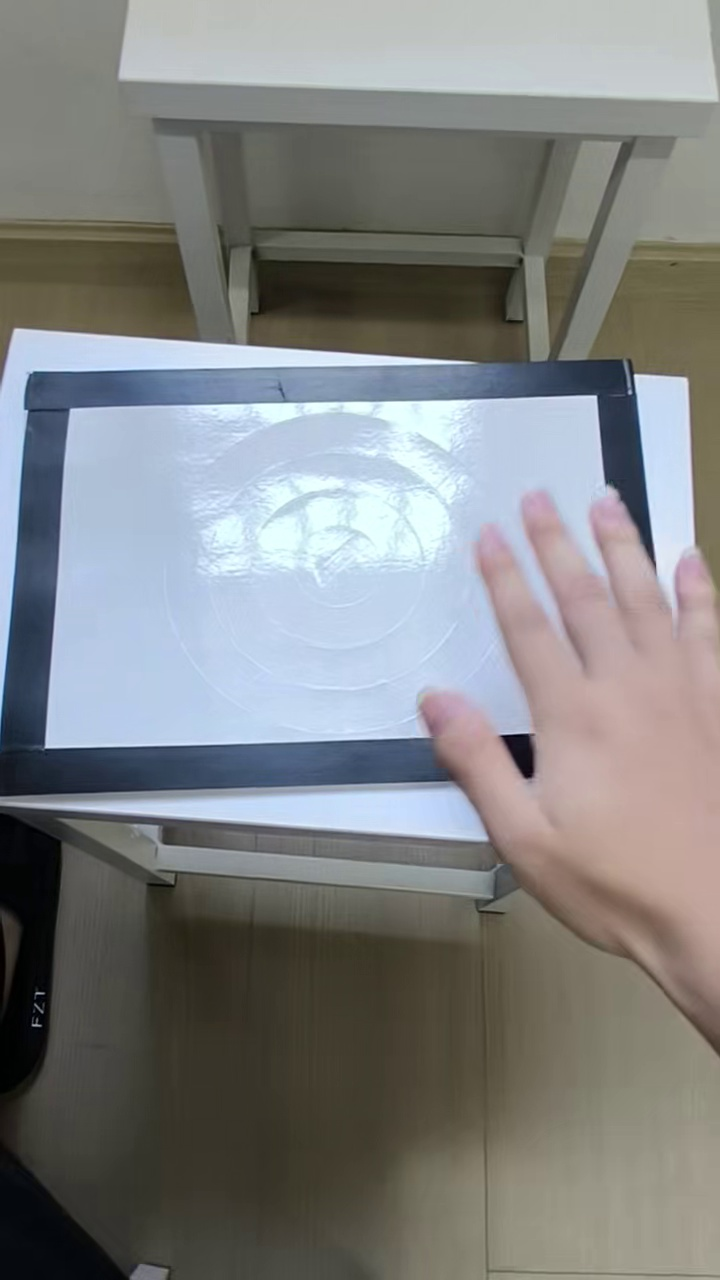board: (12, 357, 676, 789)
